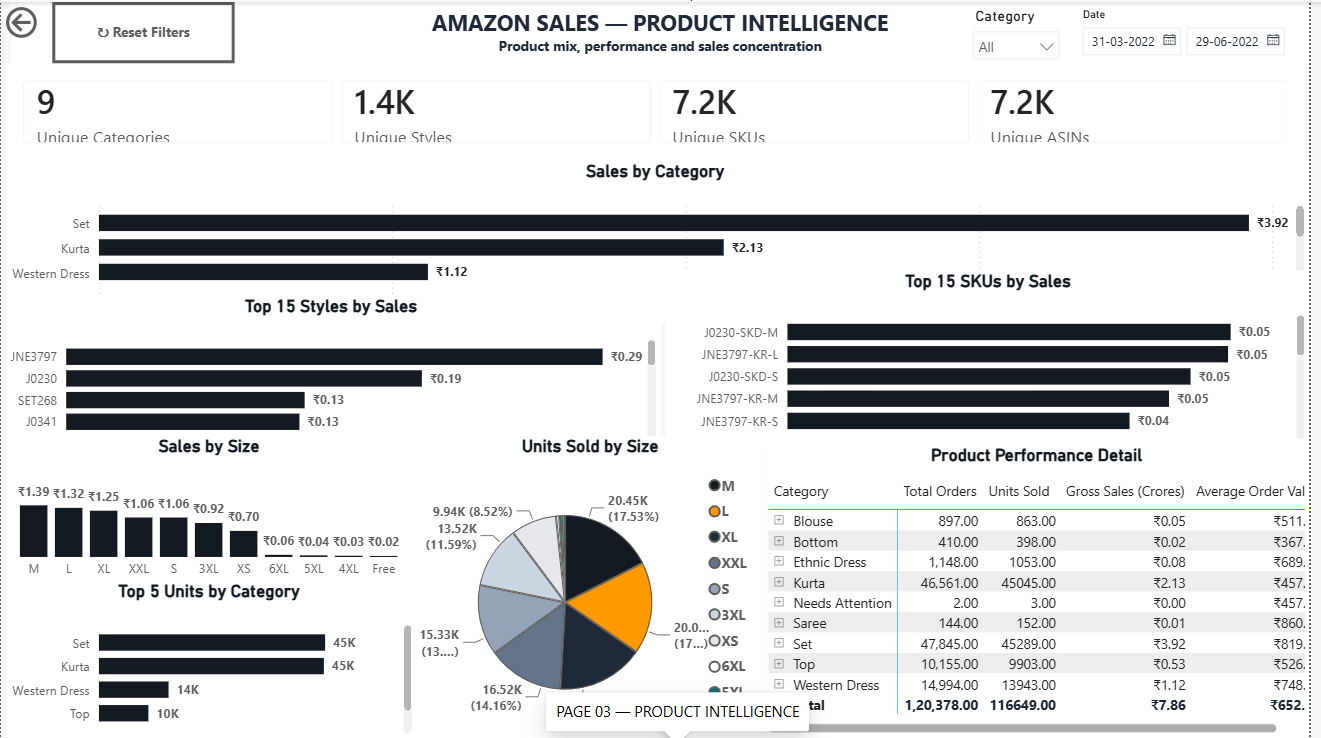

The page's visual inventory and layout, read from the dashboard file:
{"tool":"powerbi","page":{"name":"PAGE 03 — PRODUCT INTELLIGENCE","canvas":[1280,720],"ordinal":2},"visuals":[{"type":"textbox","box":[10,0,1270,60],"z":0},{"type":"cardVisual","fields":{"Data":["_Measures.Unique Categories","_Measures.Unique Styles","_Measures.Unique SKUs","_Measures.Unique ASINs"]},"box":[4.3,60,1270,95.7],"z":1000},{"type":"slicer","fields":{"Values":["Dim_Date.Date"]},"box":[1045,0,235,60],"z":2000},{"type":"slicer","fields":{"Values":["Fact_Amazon_Sales.Category Clean"]},"box":[940,0,105,72.5],"z":3000},{"type":"clusteredBarChart","title":"Sales by Category","fields":{"Category":["Fact_Amazon_Sales.Category Clean"],"Y":["_Measures.Gross Sales (Crores)"]},"box":[0,155.7,1280,158.6],"z":4000},{"type":"actionButton","box":[0,0,100,40],"z":5000},{"type":"barChart","title":"Top 15 Styles by Sales","fields":{"Category":["Fact_Amazon_Sales.Style"],"Y":["_Measures.Gross Sales (Crores)"]},"box":[0,287.1,645.7,145.7],"z":6000},{"type":"clusteredBarChart","title":"Top 15 SKUs by Sales","fields":{"Category":["Fact_Amazon_Sales.SKU"],"Y":["_Measures.Gross Sales (Crores)"]},"box":[650,262.9,630,170],"z":7000},{"type":"columnChart","title":"Sales by Size","fields":{"Category":["Fact_Amazon_Sales.Size"],"Y":["_Measures.Gross Sales (Crores)"]},"box":[0,424.3,407.1,148.6],"z":8000},{"type":"clusteredBarChart","title":"Top 5 Units by Category","fields":{"Category":["Fact_Amazon_Sales.Category Clean"],"Y":["Fact_Amazon_Sales.Units Sold"]},"box":[0,565.7,407.1,154.3],"z":9000},{"type":"pivotTable","title":"Product Performance Detail","fields":{"Rows":["Fact_Amazon_Sales.Category Clean","Fact_Amazon_Sales.Style","Fact_Amazon_Sales.SKU","Fact_Amazon_Sales.Size"],"Values":["Fact_Amazon_Sales.Total Orders","Fact_Amazon_Sales.Units Sold","Fact_Amazon_Sales.Gross Sales Amount","_Measures.Average Order Value"]},"box":[745.7,432.9,534.3,287.1],"z":10000},{"type":"pieChart","fields":{"Category":["Fact_Amazon_Sales.Size"],"Y":["Fact_Amazon_Sales.Units Sold"]},"box":[407.1,424.3,338.6,295.7],"z":11000},{"type":"actionButton","box":[50.1,0,178.5,59.9],"z":12000}]}

Visuals, with their boxes in screenshot pixels (x1, y1, x2, y2), scaled from the page's 1280x720 canvas onto the 1321x738 screenshot:
textbox: <bbox>10, 0, 1320, 61</bbox>
cardVisual - _Measures.Unique Categories x _Measures.Unique Styles: <bbox>4, 61, 1315, 160</bbox>
slicer - Dim_Date.Date: <bbox>1078, 0, 1320, 61</bbox>
slicer - Fact_Amazon_Sales.Category Clean: <bbox>970, 0, 1078, 74</bbox>
"Sales by Category" clusteredBarChart: <bbox>0, 160, 1320, 322</bbox>
actionButton: <bbox>0, 0, 103, 41</bbox>
"Top 15 Styles by Sales" barChart: <bbox>0, 294, 666, 444</bbox>
"Top 15 SKUs by Sales" clusteredBarChart: <bbox>671, 269, 1320, 444</bbox>
"Sales by Size" columnChart: <bbox>0, 435, 420, 587</bbox>
"Top 5 Units by Category" clusteredBarChart: <bbox>0, 580, 420, 737</bbox>
"Product Performance Detail" pivotTable: <bbox>770, 444, 1320, 737</bbox>
pieChart - Fact_Amazon_Sales.Size x Fact_Amazon_Sales.Units Sold: <bbox>420, 435, 770, 737</bbox>
actionButton: <bbox>52, 0, 236, 61</bbox>
